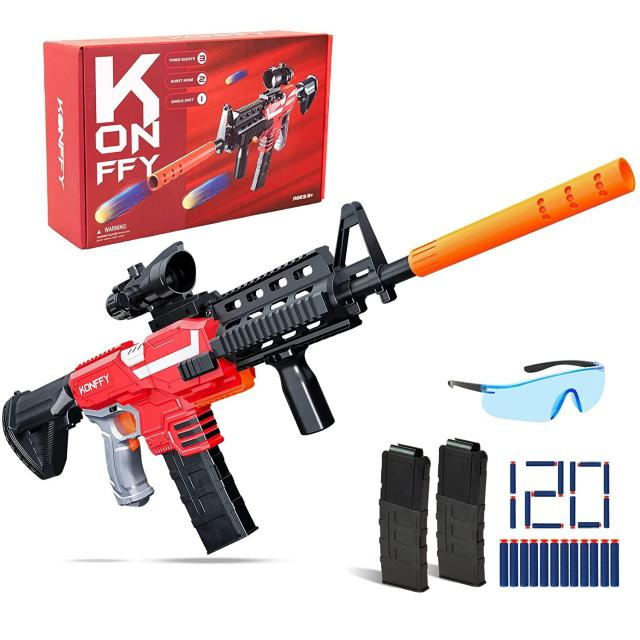weapon: (11, 141, 628, 558)
